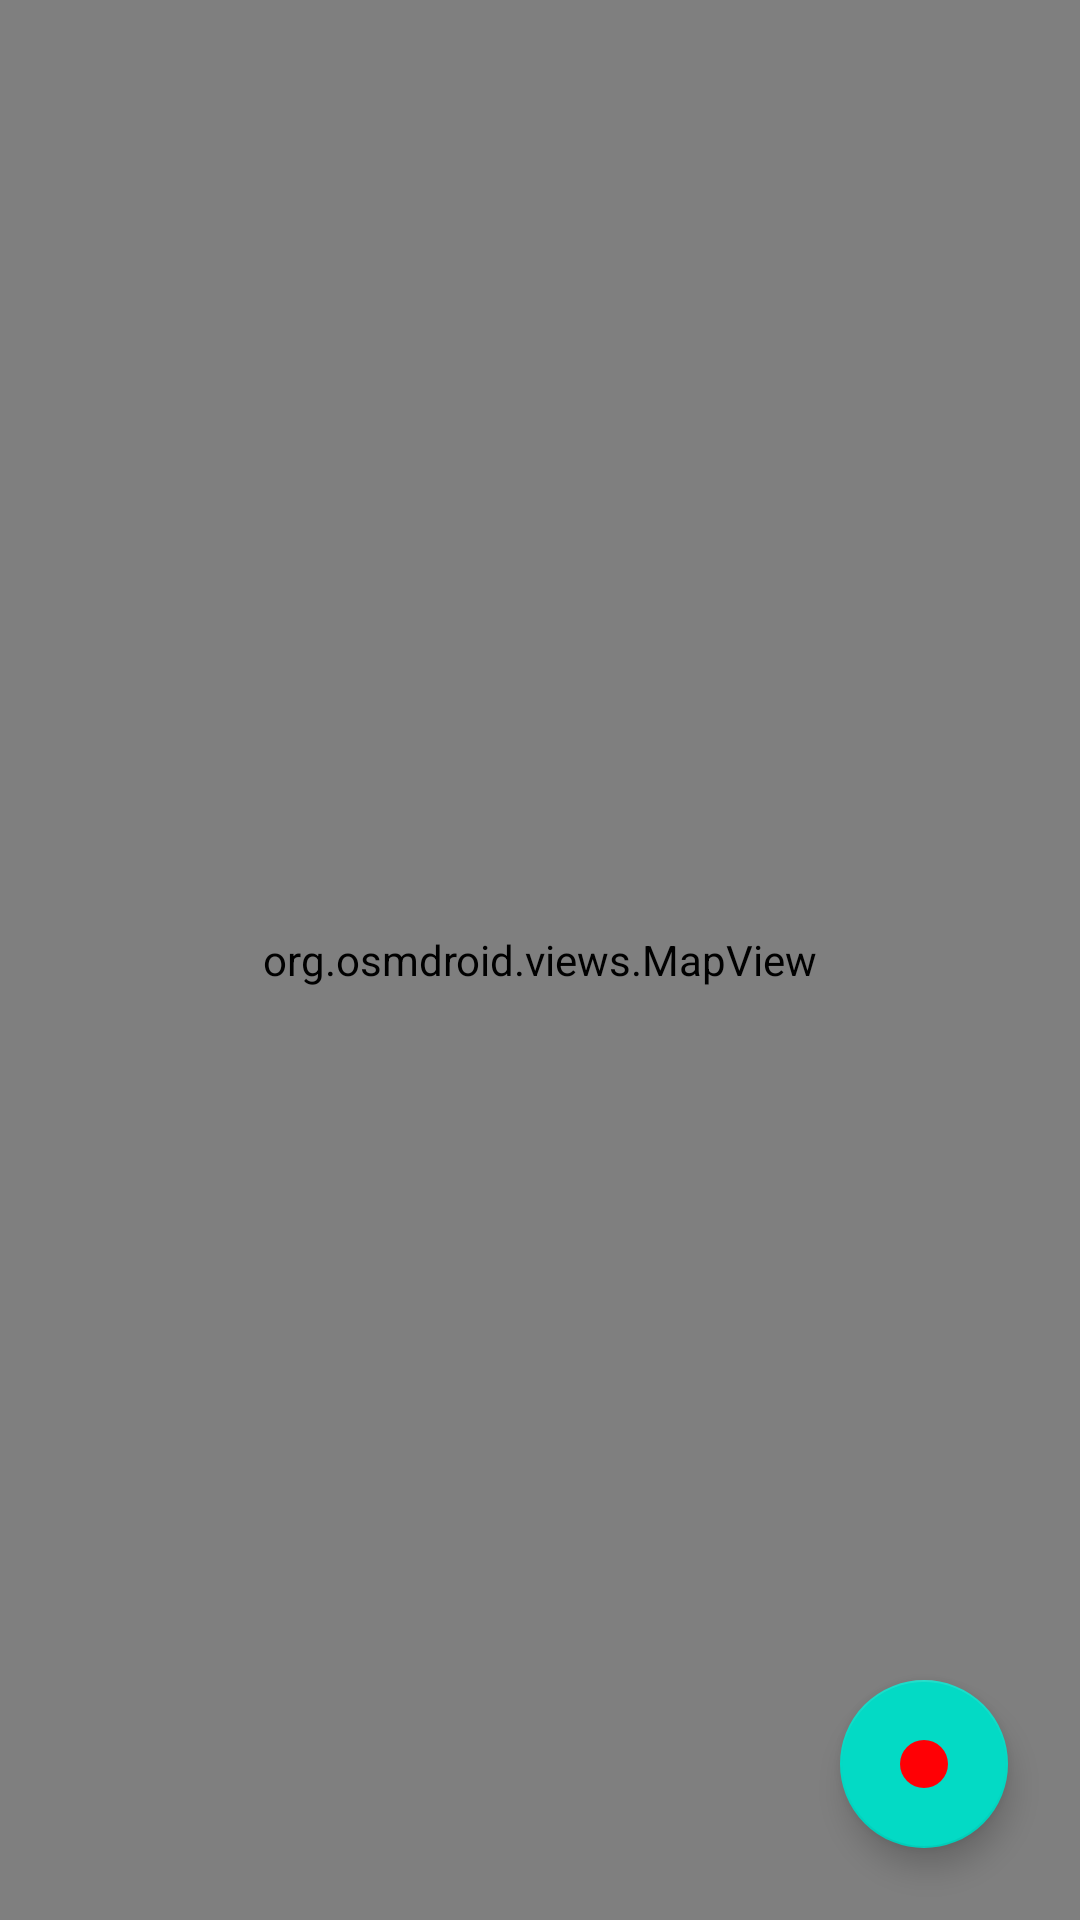

Icon bounding boxes for this 1080px x 1920px phone screenshot, format box=[x1, y1, x2, y2]:
record: box=[840, 1680, 1008, 1848]
